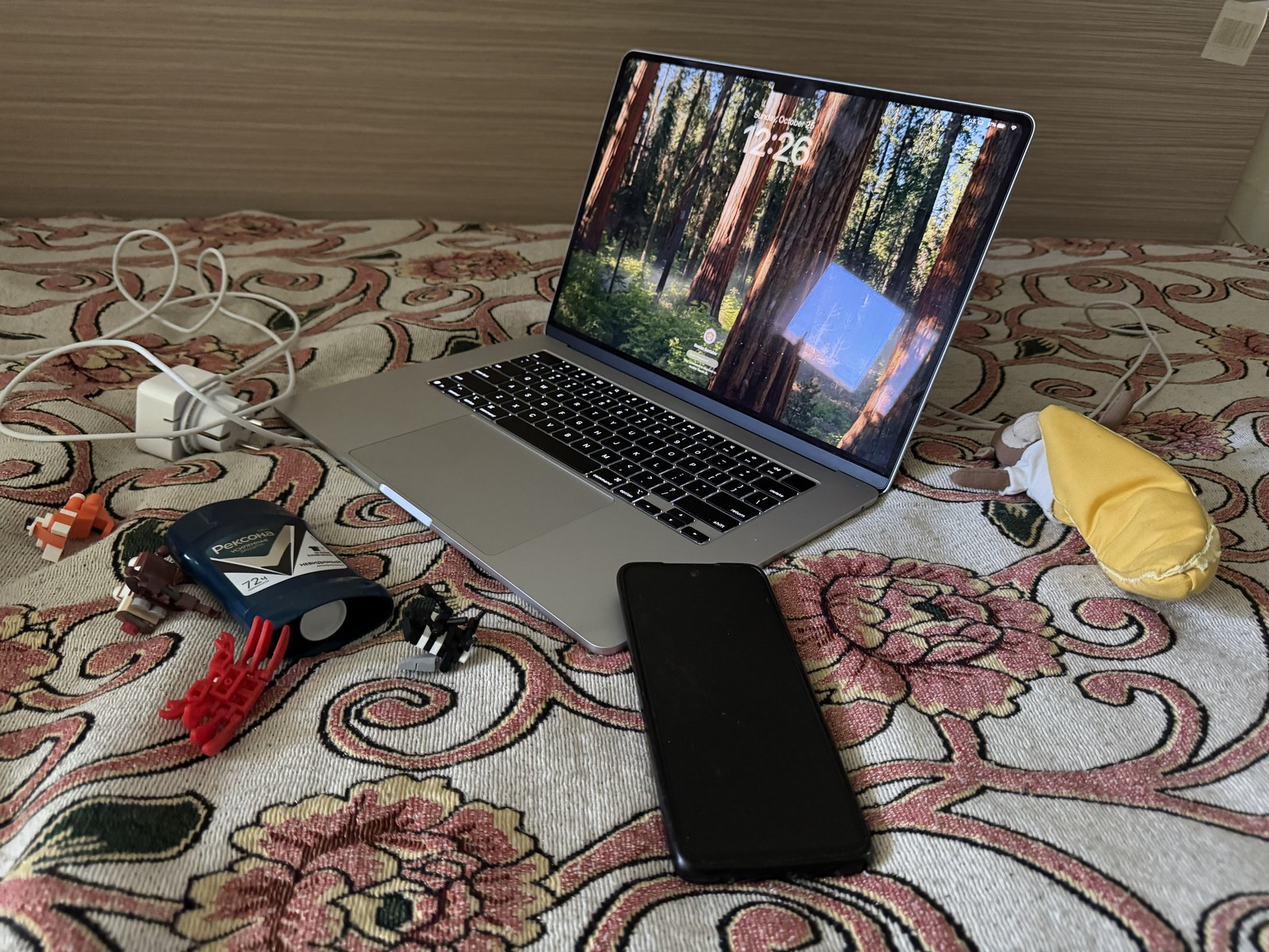cell phone: (616, 561, 874, 884)
laptop: (272, 48, 1036, 657)
